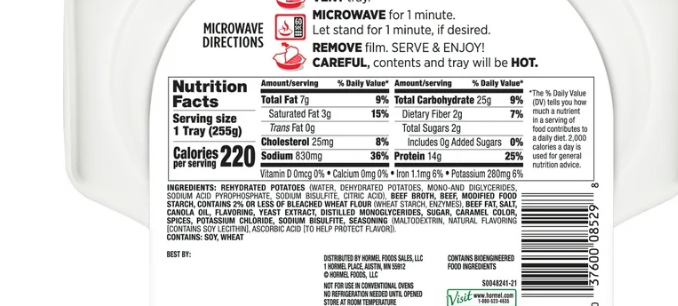l: (164, 182, 518, 235)
